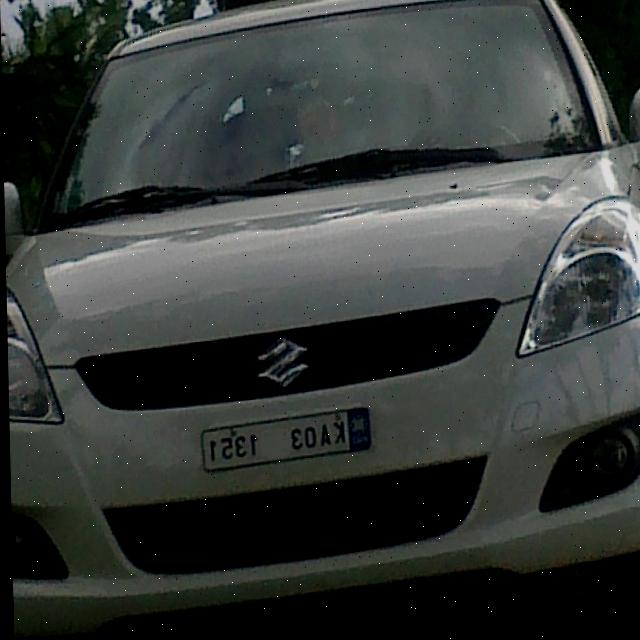plate: (199, 411, 367, 484)
